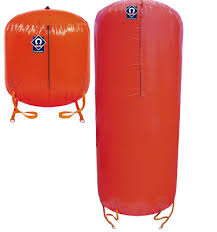buoy: (6, 10, 90, 106)
